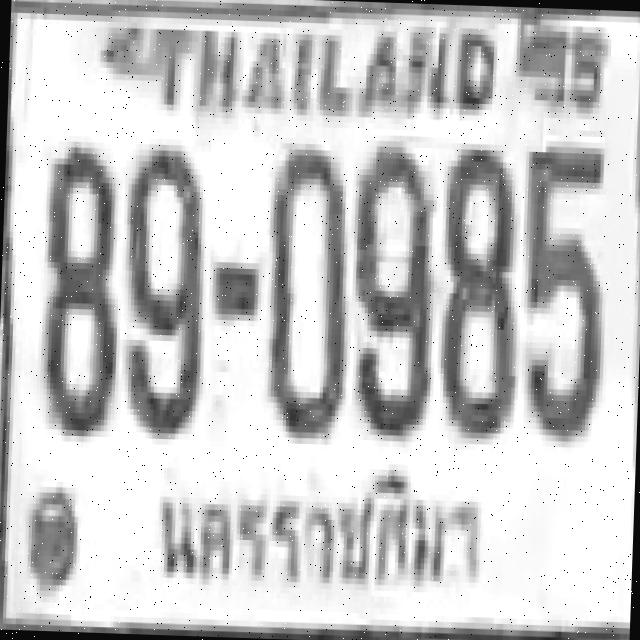0: (264, 144, 352, 435)
5: (516, 146, 604, 438)
8: (436, 143, 522, 434), (36, 143, 122, 434)
9: (122, 146, 210, 444), (348, 142, 436, 433)
NakhonRatchasima: (141, 455, 493, 602)
